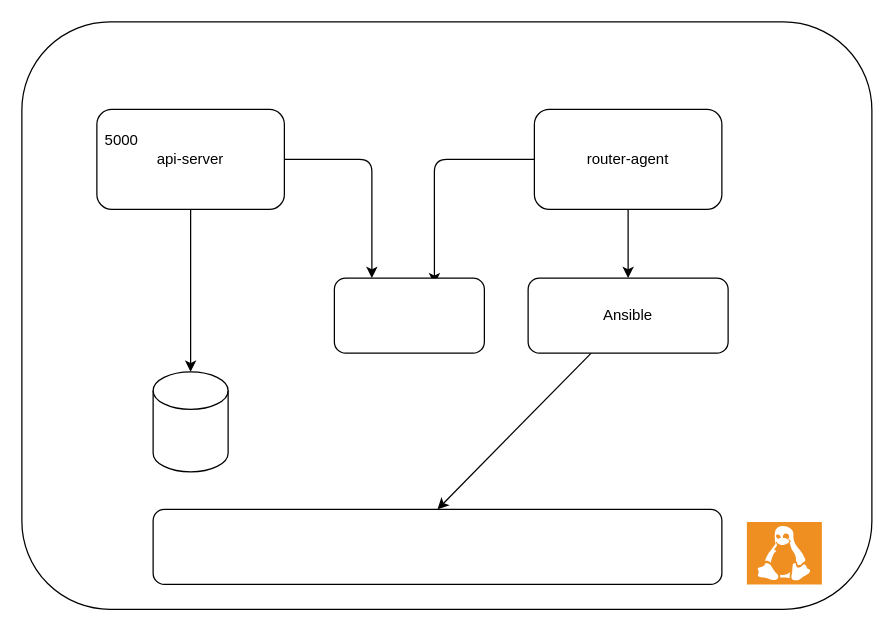
Image size: 894x631. Some labels were removed from this diagram. Here are the shapes that lost their labels. From the top down, the centre of each, then its label:
[408,315]: rabbitmq
[437,546]: OS/Kernel
